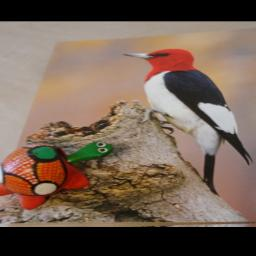Woodpecker: (123, 46, 255, 198)
